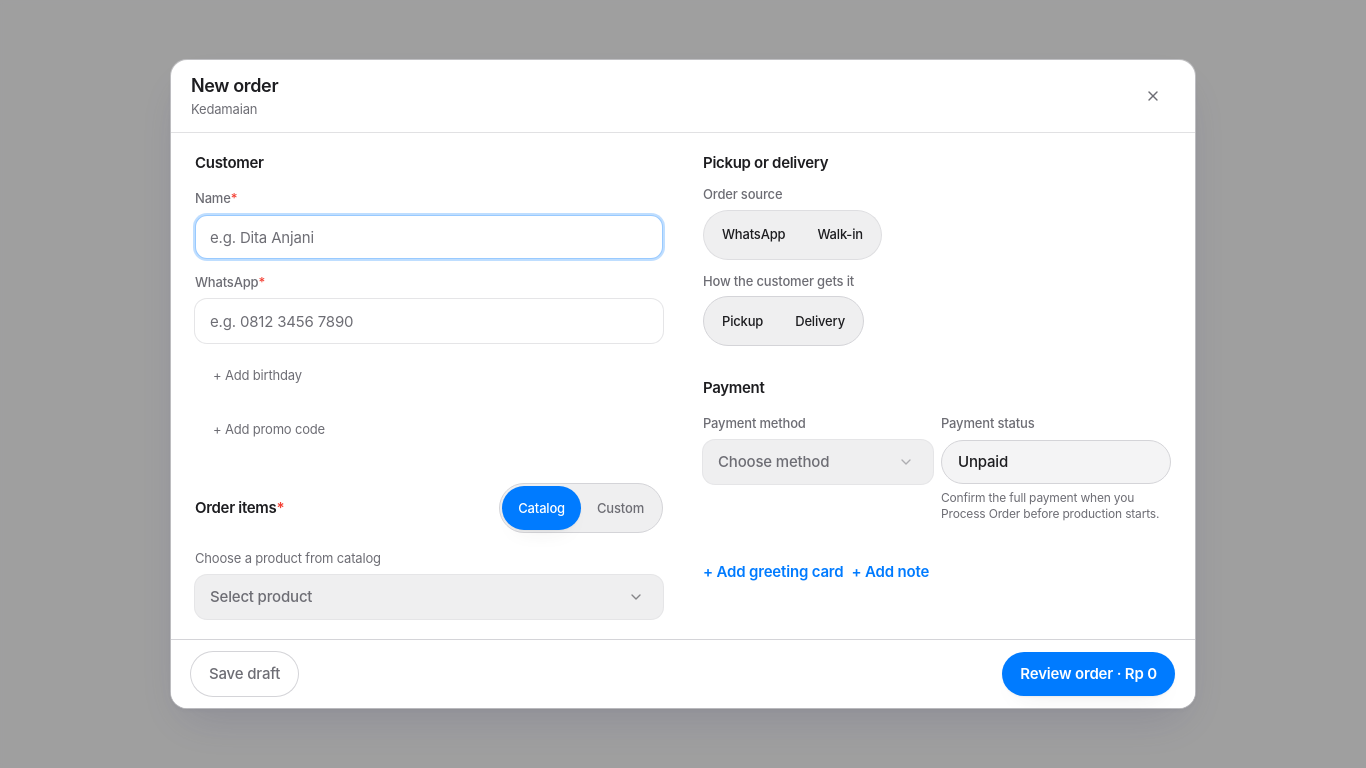
New Order form › keeps optional parts behind "+ Add" links
This screenshot has width=1366, height=768.
Click the button "+ Add note": (890, 572) x1=848 y1=550 x2=933 y2=594
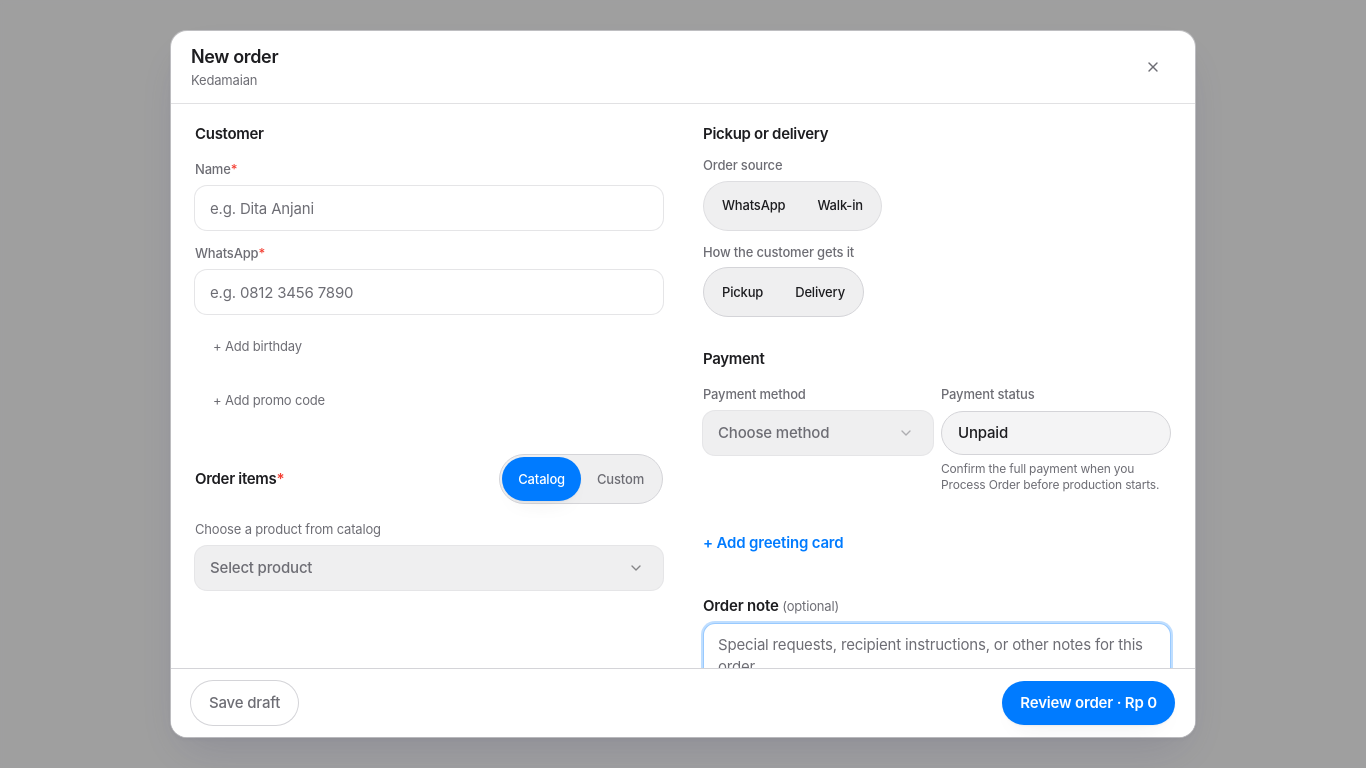
expect the text box with id "orderNote" is shown: met, box x1=703 y1=623 x2=1171 y2=668
Click the button "+ Add greeting card": (773, 543) x1=699 y1=521 x2=848 y2=565
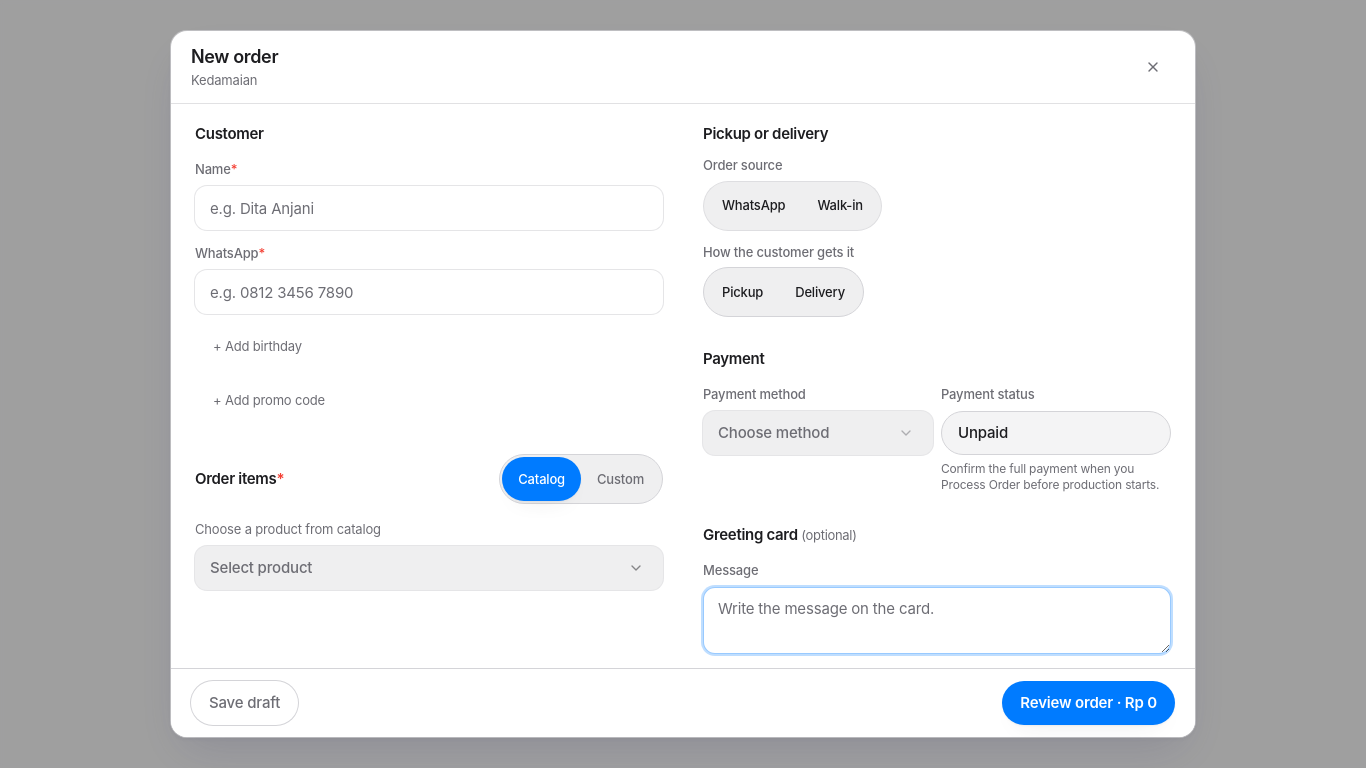
expect the text box with id "greetingMessage" is shown: met, box x1=703 y1=587 x2=1171 y2=654
